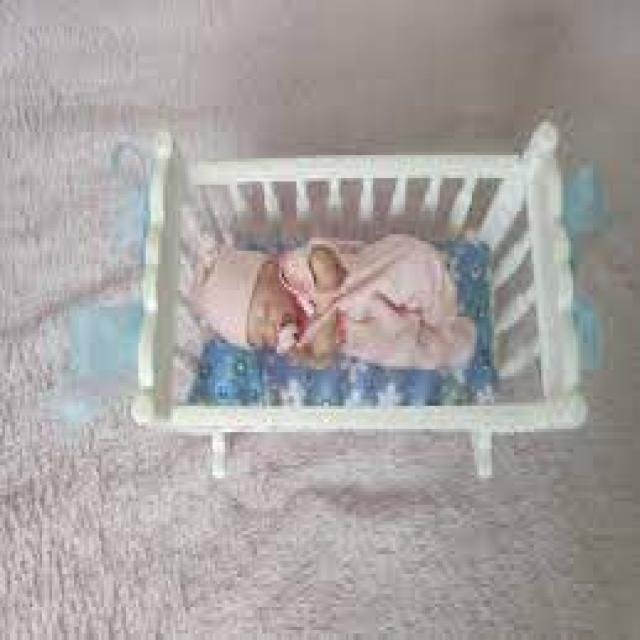baby: (185, 227, 489, 379)
crib: (114, 116, 590, 478)
